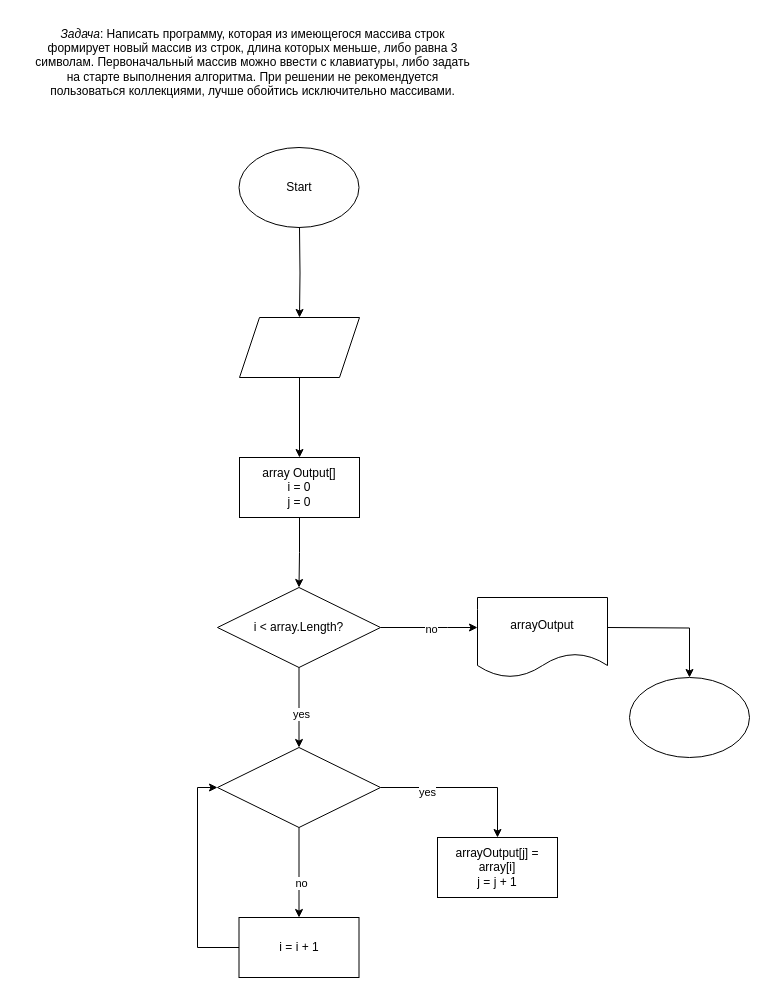
Some shapes in this 767 by 995 pixel diagram are drawn without their labels. The shapes that lost their labels are listed below. From the top down, each one's box as (x1, y1, x2, y2) in pixels, then its label:
(238, 316, 360, 378): array[]
(628, 676, 750, 758): end
(216, 746, 380, 828): array[i].Length <= 3?
